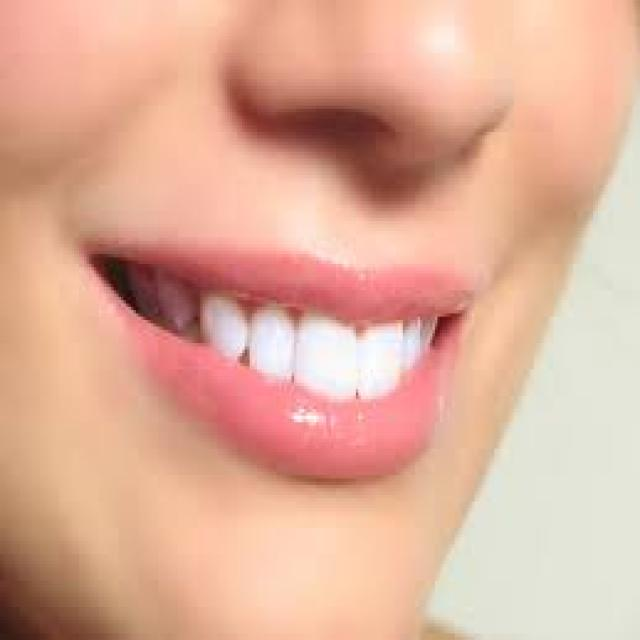tooth: (292, 310, 358, 396), (188, 274, 242, 350), (358, 320, 403, 396), (242, 310, 292, 366), (158, 274, 185, 313), (405, 317, 423, 356)
